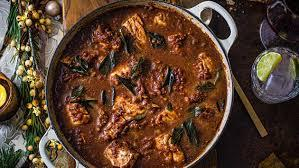Fish Curry: (60, 12, 210, 162)
